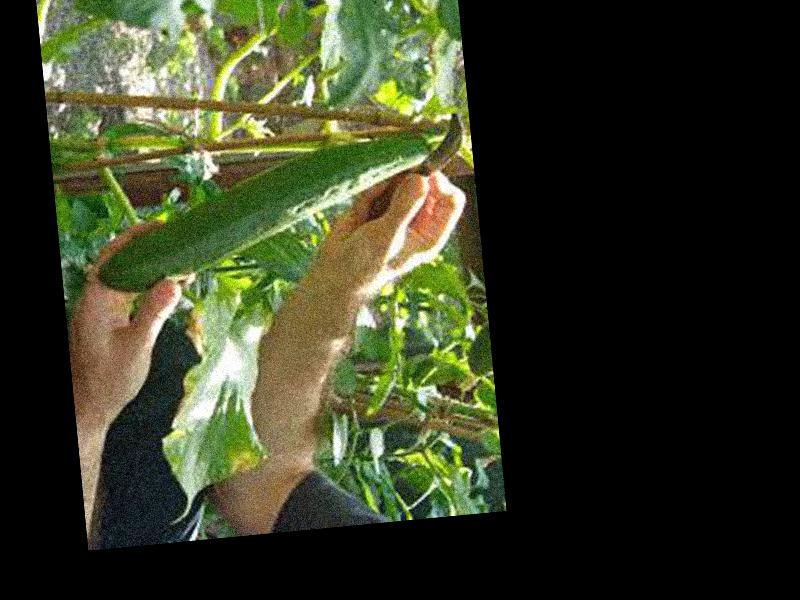Cucumber: (88, 131, 439, 294)
